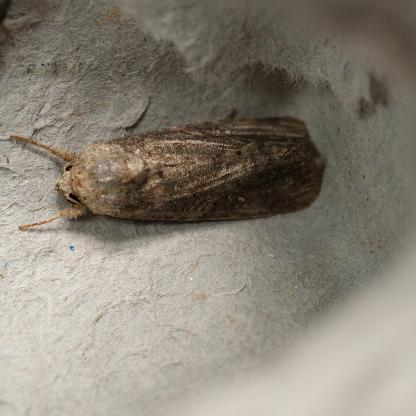Fall Armyworm Moth: (6, 105, 330, 233)
